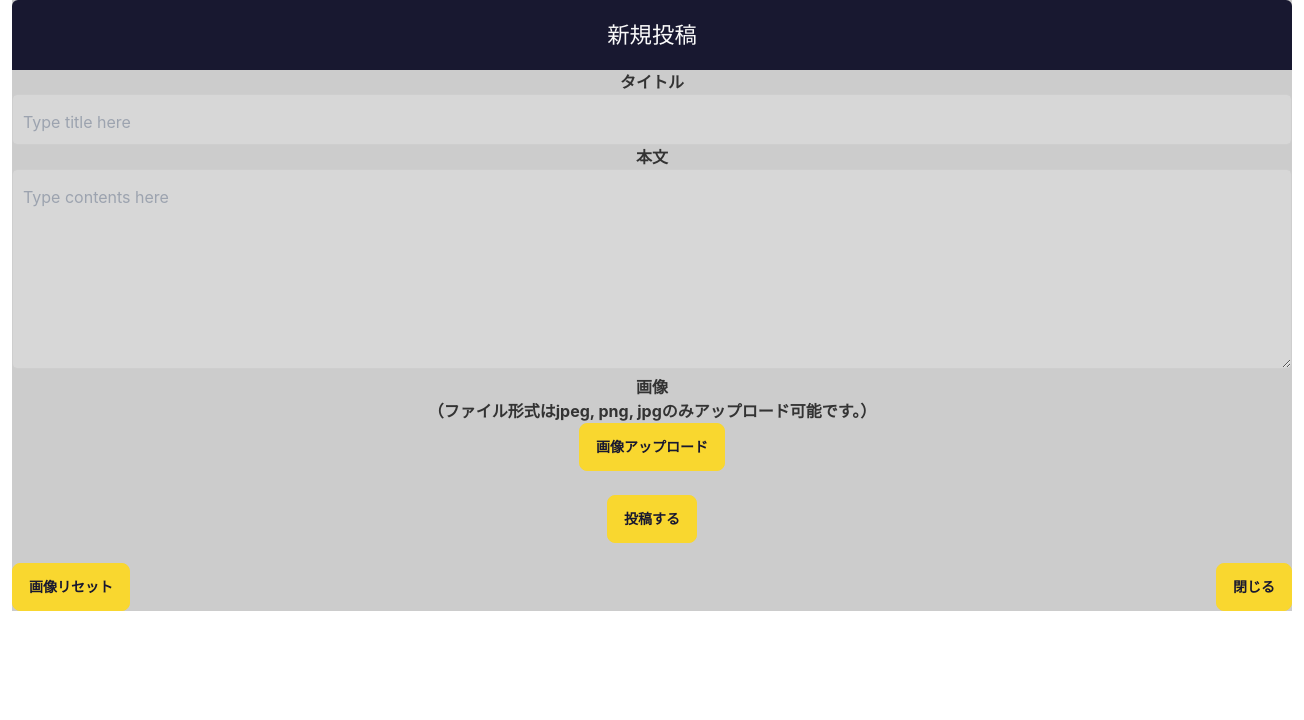
it: Form contents › 本文が空の場合、エラーメッセージを表示
The image size is (1304, 720).
Type "テストタイトル" into the field with placeholder "Type title here".
click(652, 119); type("テストタイトル")  # box [12,94,1292,145]
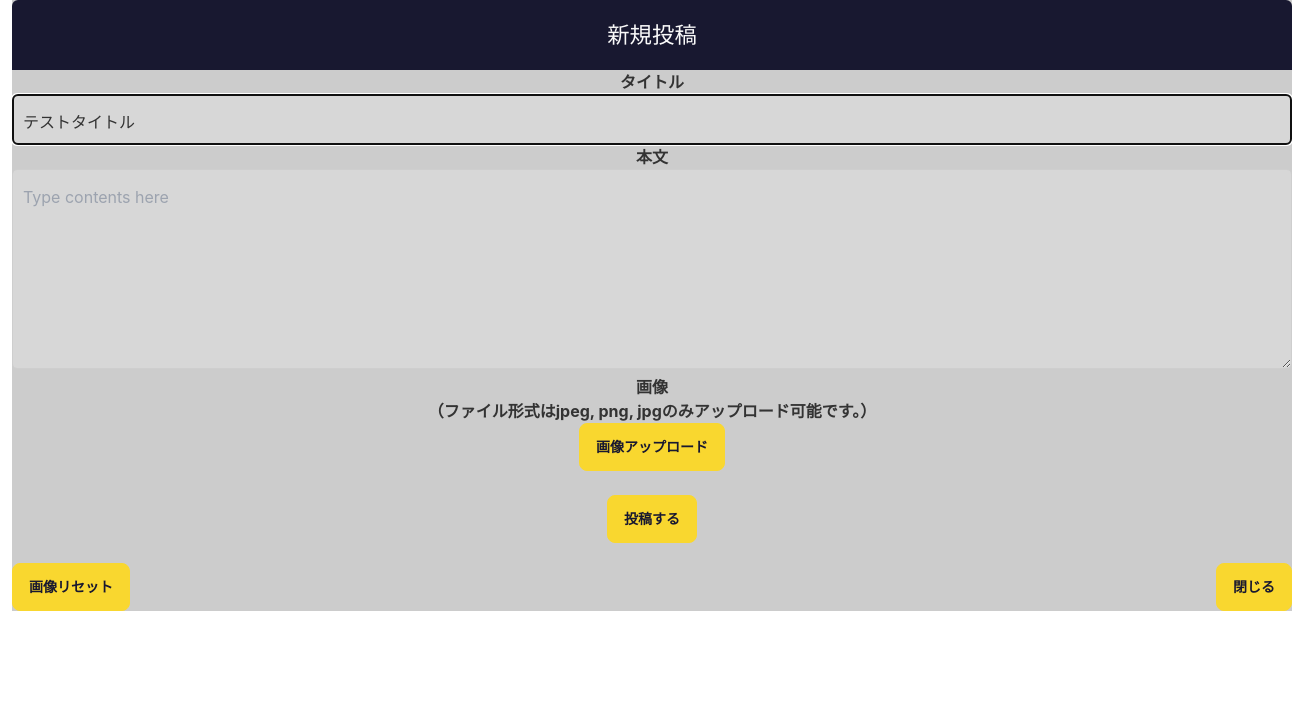
Click the button "投稿する".
click(652, 519)  # box [607,495,697,543]
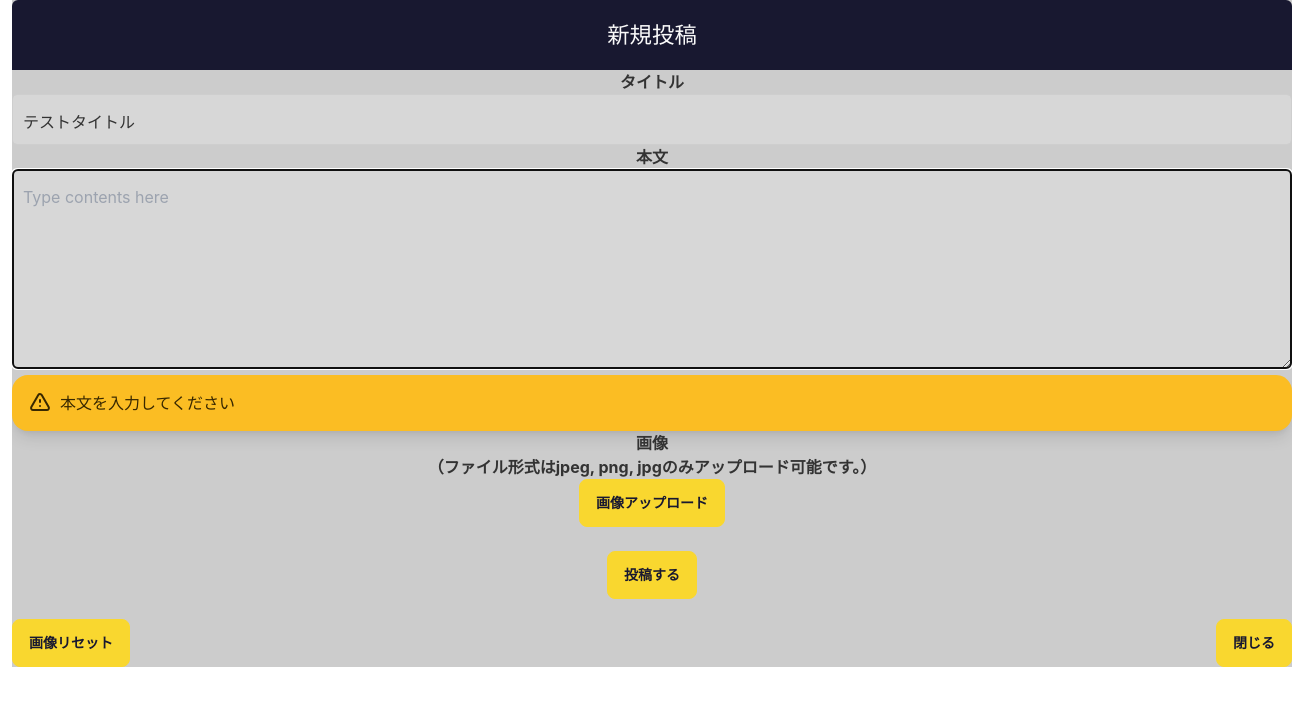
Expected: the text "本文を入力してください" is shown, [60,391,235,415]
